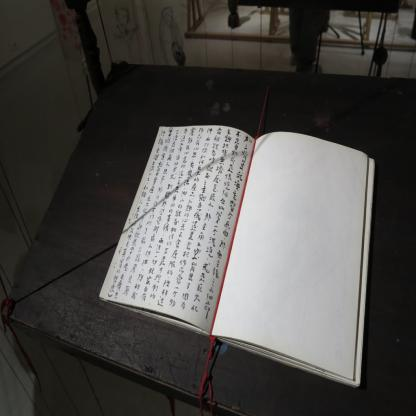book: (100, 102, 374, 377)
